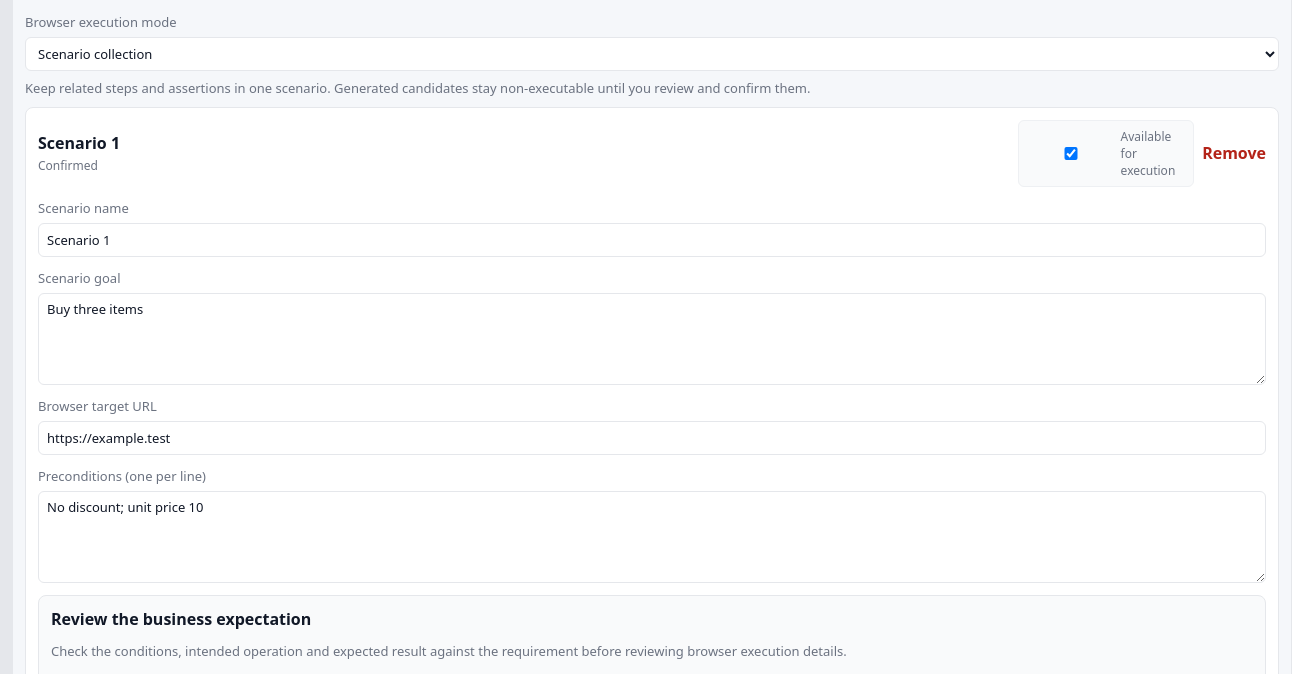
business expectation review › invalidates both reviews when conditions or expected results change
The image size is (1292, 674).
Replace the text in the text box named "Preconditions (one per line) 1" with "Member discount applies". click: (652,536)
box: x1=38 y1=490 x2=1266 y2=582
(page scrolled)
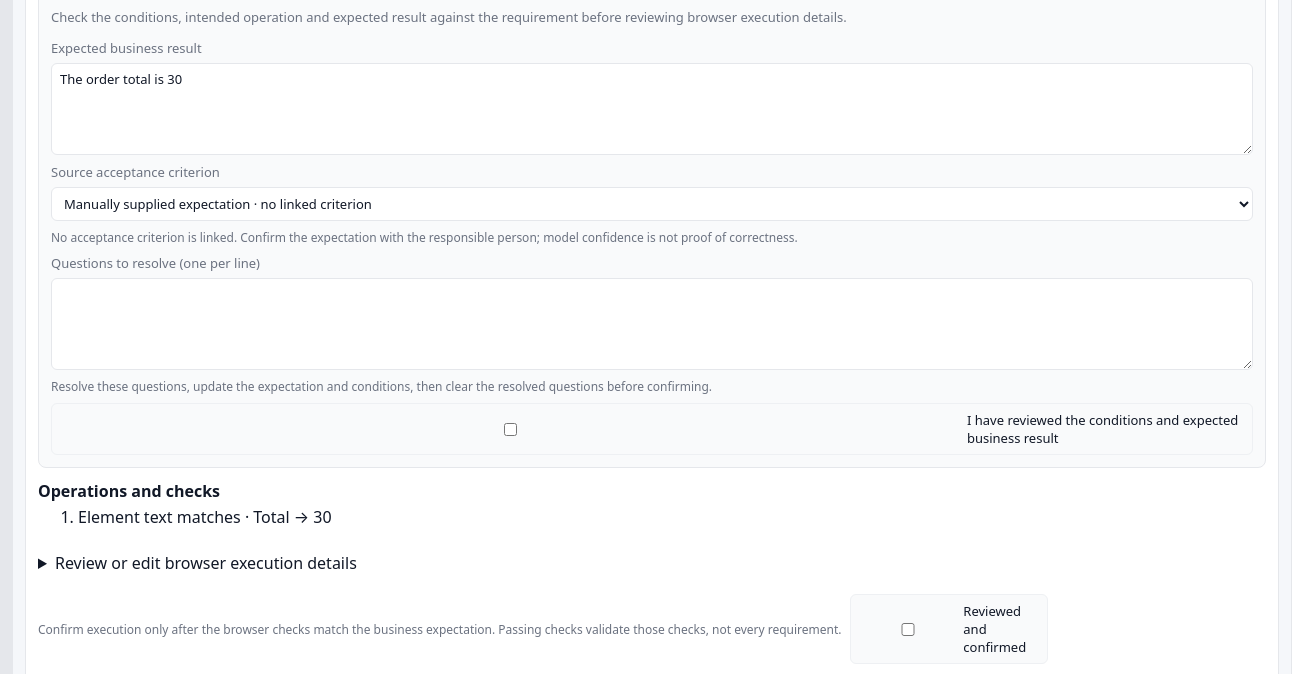
Now the checkbox named "I have reviewed the conditions and expected business result 1" is not checked
Now the checkbox named "Reviewed and confirmed 1" is not checked, box x1=864 y1=622 x2=952 y2=636
Click the checkbox named "I have reviewed the conditions and expected business result 1". click: (510,429)
box: x1=65 y1=422 x2=956 y2=436
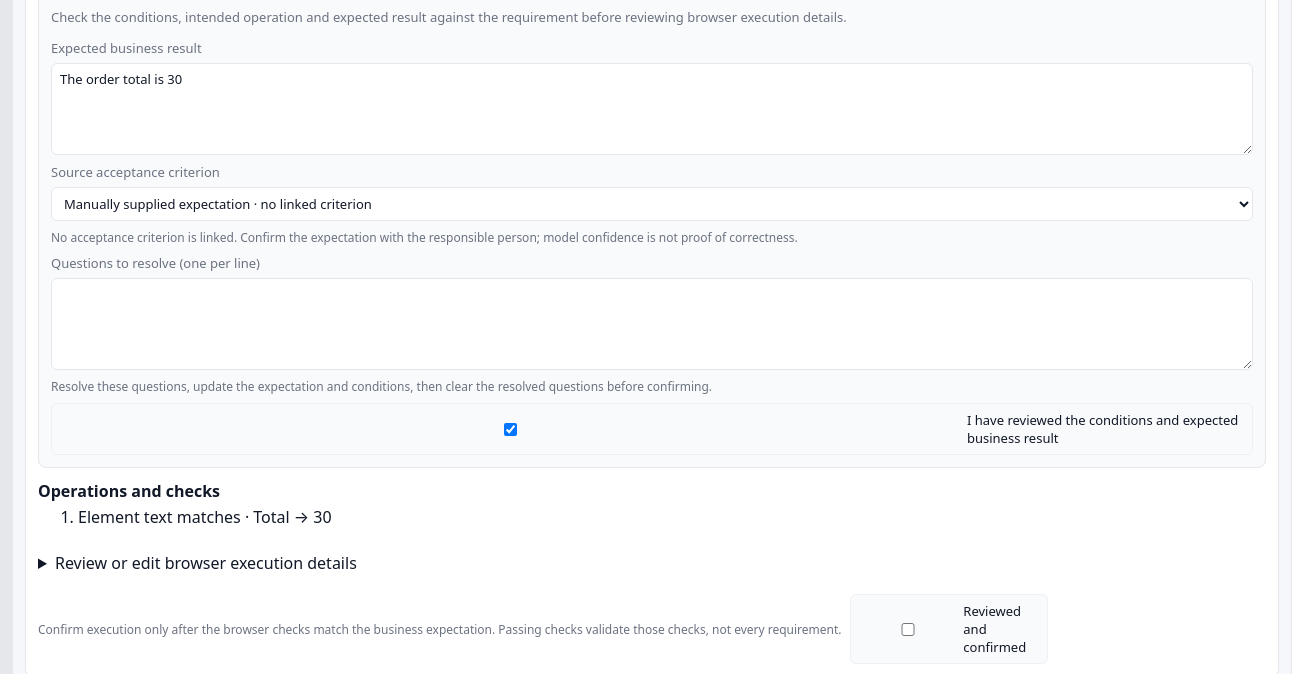
Replace the text in the text box named "Expected business result 1" with "Total is 27". click: (652,109)
box: x1=51 y1=63 x2=1253 y2=155
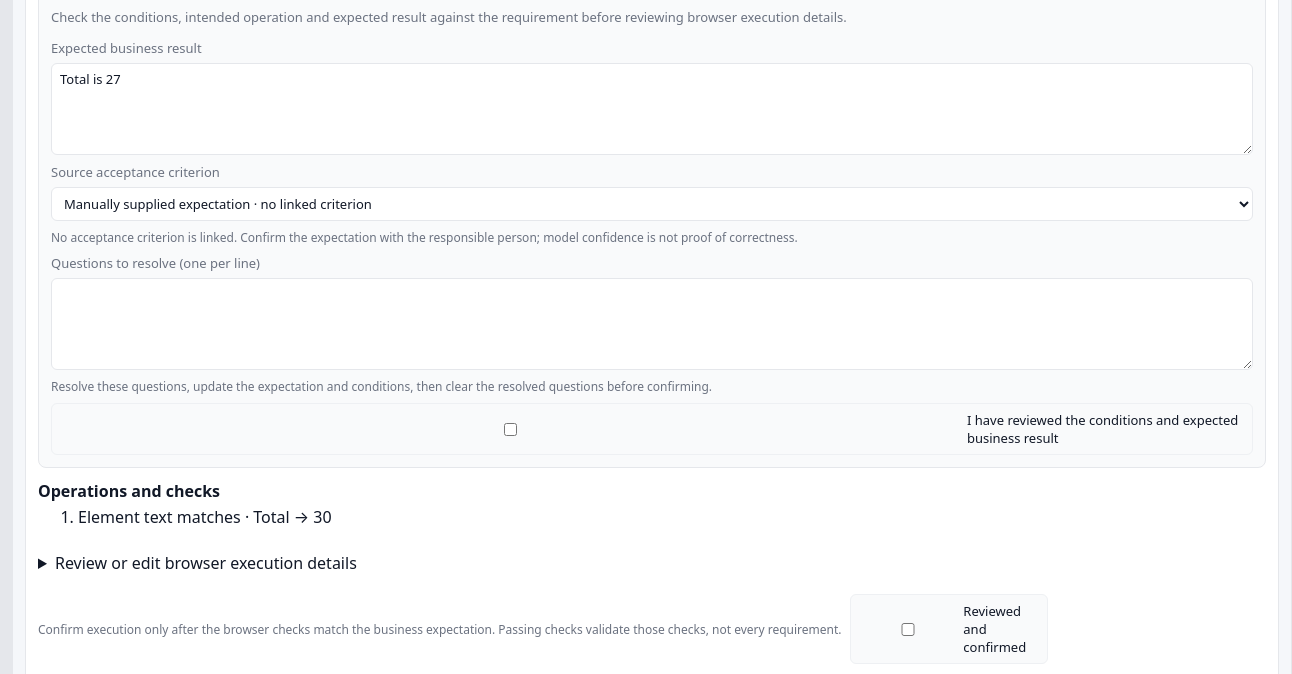
Now the checkbox named "I have reviewed the conditions and expected business result 1" is not checked, box x1=65 y1=422 x2=956 y2=436
